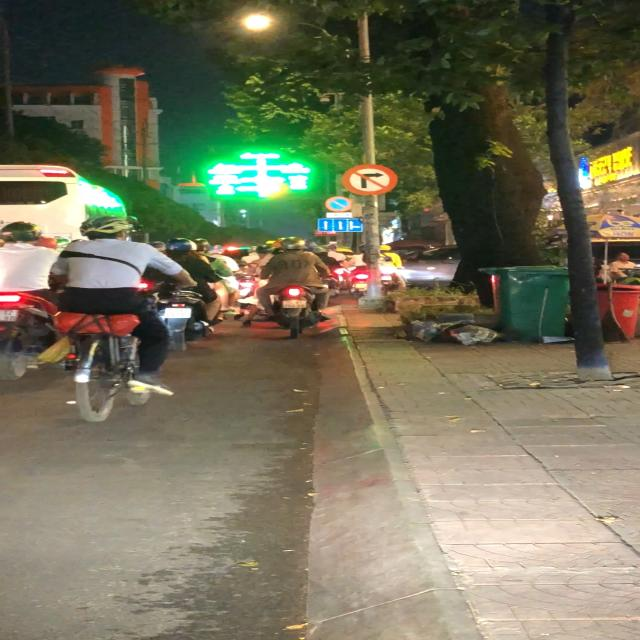Bien bao cam re phai: (340, 163, 400, 197)
